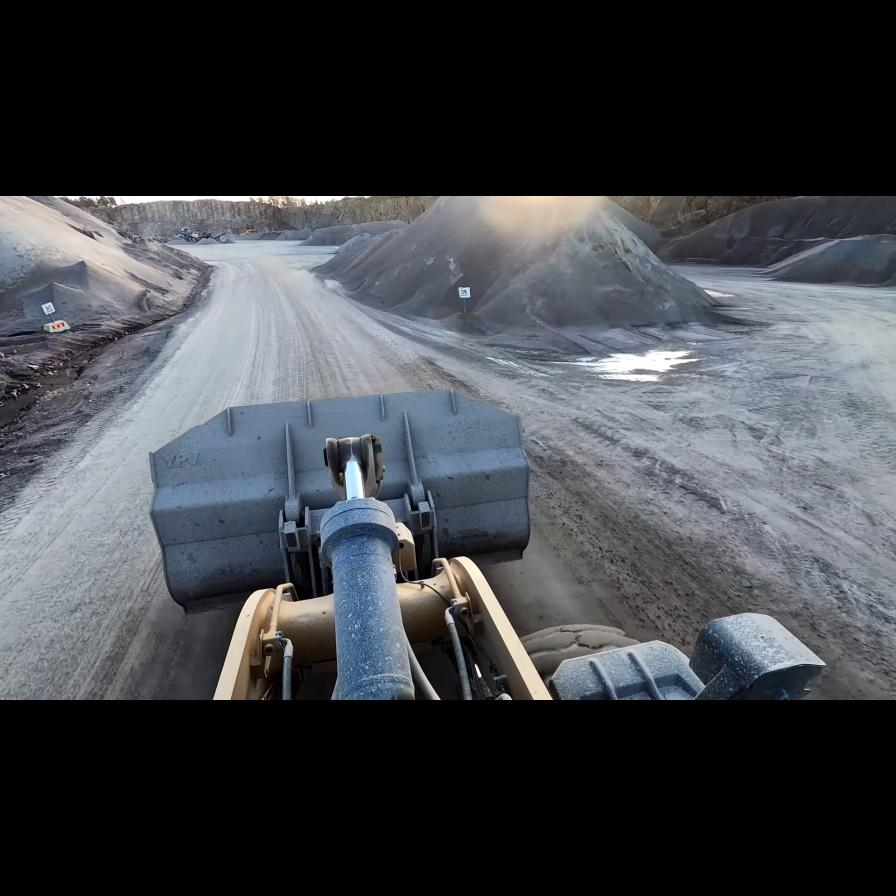anchor: (321, 431, 390, 497)
pile of gravel: (312, 199, 725, 335), (1, 197, 206, 346), (2, 253, 100, 327), (761, 229, 896, 280), (300, 221, 405, 248)
